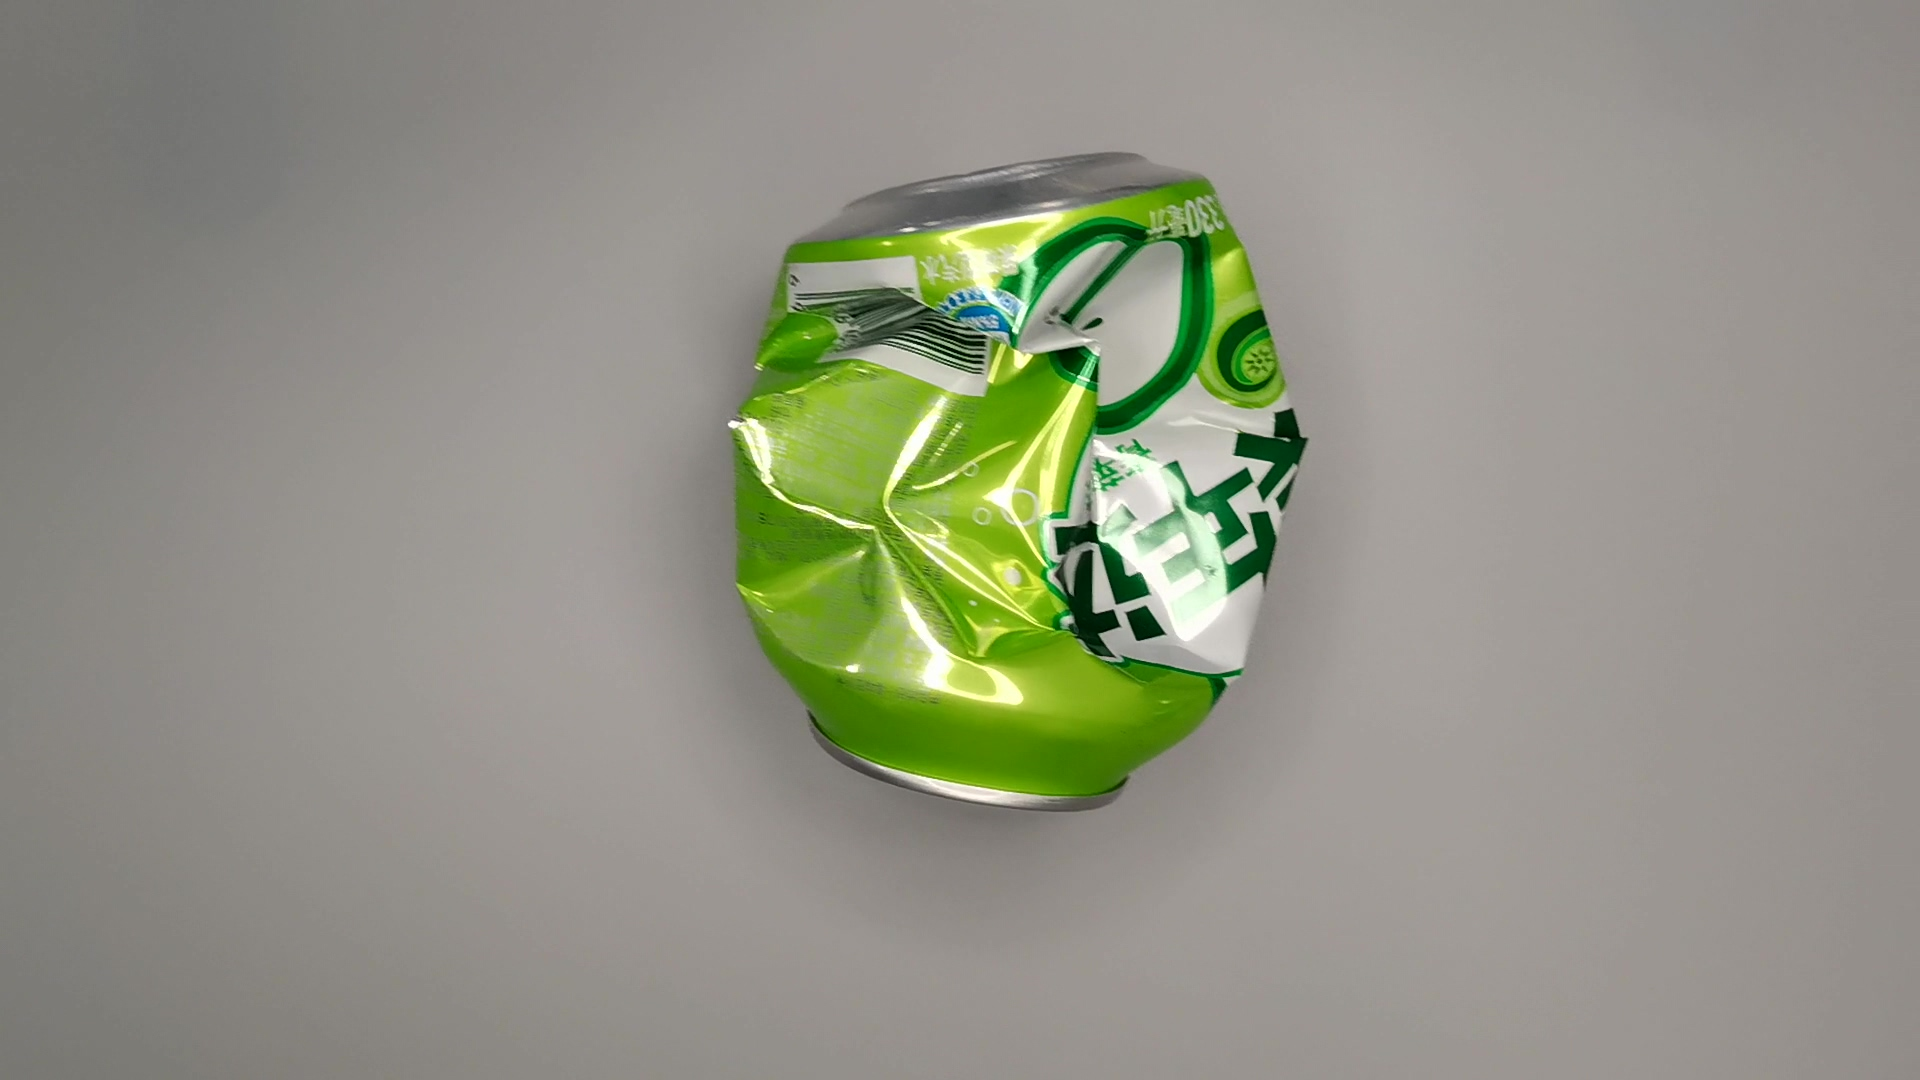can: (721, 142, 1313, 827)
